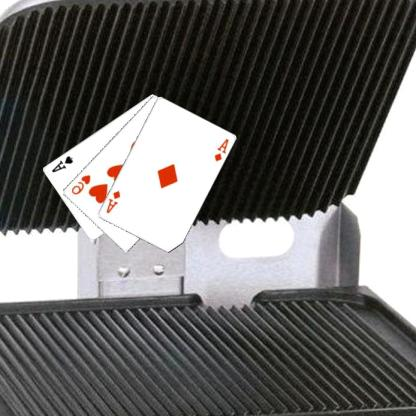9H: (70, 172, 94, 196)
AD: (214, 136, 232, 163), (105, 188, 123, 214)
AS: (50, 153, 76, 174)
